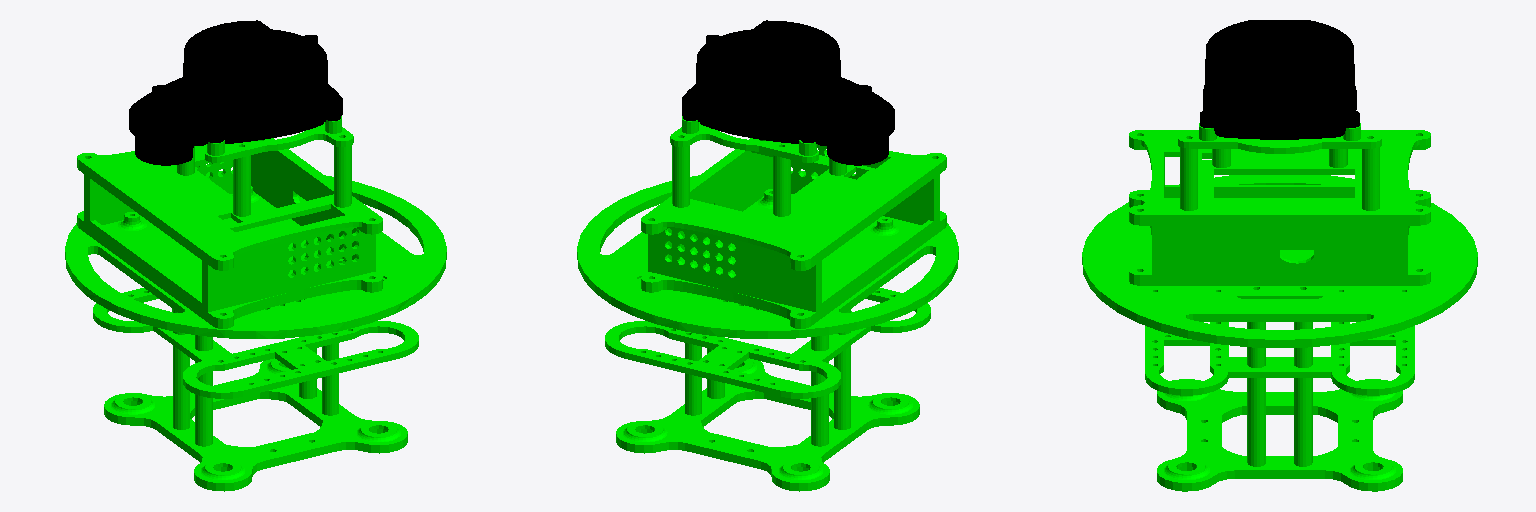
The robot description file, URDF, robot "airosa":
<?xml version="1.0" encoding="utf-8"?>

<robot name="airosa">

    <!-- Materials -->
    <material name="white">
        <color rgba="1 1 1 1"/>
    </material>

    <material name="orange">
        <color rgba="1.0 0.3 0.1 1.0"/>
    </material>

    <material name="green">
        <color rgba="0.0 1.0 0.0 1.0"/>
    </material>

    <material name="black">
        <color rgba="0.0 0.0 0.0 1.0"/>
    </material>

    <!-- Base footprint link is odom -->
    <link name="base_footprint"/>

    <!-- Fixed joint between base_footprint and base_link -->
    <joint name="base_joint" type="fixed">
        <origin xyz="0.0 0.0 0.0"/>
        <parent link="base_footprint"/>
        <child link="base_link"/>
    </joint>

    <!-- Base link with visual and collision elements -->
    <link name="base_link">
        <visual name="base_visual">
            <origin xyz="0.0 0.0 0.0"/>
            <geometry>
                <mesh filename="package://airosa_description/meshes/base_body.stl" scale="0.001 0.001 0.001"/>
            </geometry>
            <material name="green"/>
        </visual>
        <collision name="base_collision">
            <origin xyz="0.0 0.0 0.0"/>
            <geometry>
                <mesh filename="package://airosa_description/meshes/base_body.stl" scale="0.001 0.001 0.001"/>
            </geometry>
        </collision>
        <inertial>
            <mass value="1.0"/> <!-- Mass added -->
            <inertia ixx="1.0" ixy="0.0" ixz="0.0" iyy="1.0" iyz="0.0" izz="1.0"/>
        </inertial>
    </link>

    <!-- LDS link with visual and collision elements -->
    <link name="lds_link">
        <visual name="lds_visual">
            <origin xyz="0.0 0.0 0.0"/>
            <geometry>
                <mesh filename="package://airosa_description/meshes/lds.stl" scale="0.001 0.001 0.001"/>
            </geometry>
            <material name="black"/>
        </visual>
        <collision name="lds_collision">
            <origin xyz="0.0 0.0 0.0"/>
            <geometry>
                <mesh filename="package://airosa_description/meshes/lds.stl" scale="0.001 0.001 0.001"/>
            </geometry>
        </collision>
        <inertial>
            <mass value="0.5"/> <!-- Mass added -->
            <inertia ixx="0.0" ixy="0.0" ixz="0.0" iyy="0.0" iyz="0.0" izz="0.0"/>
        </inertial>
    </link>

    <!-- Fixed joint between base_link and lds_link -->
    <joint name="lds_joint" type="fixed">
        <origin xyz="0.11775 0.1195 0.1455" rpy="0.0 0.0 3.142"/>
        <parent link="base_link"/>
        <child link="lds_link"/>
    </joint>

</robot>

--- Render facts (derived) ---
The picture shows the robot from 3 angles, left to right: view 1: azimuth 30°, elevation 25°; view 2: azimuth 150°, elevation 25°; view 3: azimuth 270°, elevation 25°; orthographic projection.
Robot: airosa — 3 links, 2 joints (2 fixed); root link base_footprint; default pose: every joint at zero.
Visible links, largest first — view 1: base_link, lds_link; view 2: base_link, lds_link; view 3: base_link, lds_link.
Boxes of the visible links, x1,y1,x2,y2 form: base_link: (65, 116, 446, 491); lds_link: (129, 20, 342, 165); base_link: (577, 116, 958, 491); lds_link: (682, 20, 894, 165); base_link: (1082, 123, 1477, 491); lds_link: (1200, 20, 1359, 139).
Size in the robot's own frame: 0.17 by 0.1699 by 0.1849 metres.
2 mesh visuals loaded from 2 distinct referenced files (2 binary STL).
